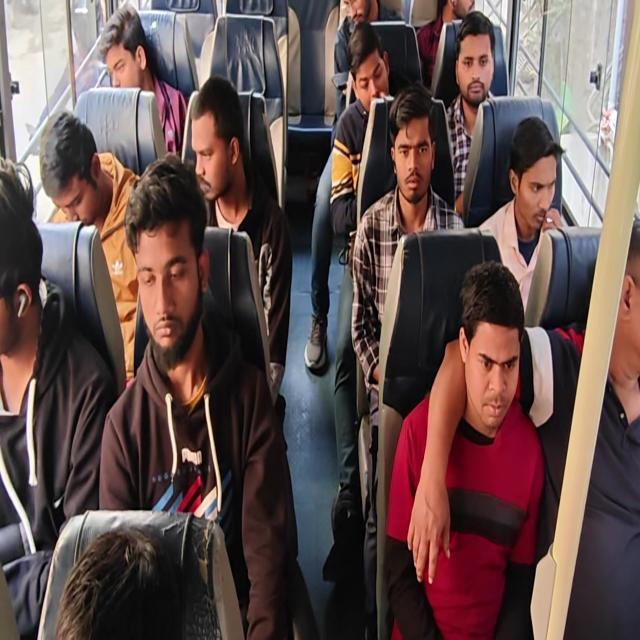person: (54, 515, 219, 640), (127, 151, 205, 368), (450, 260, 526, 431), (0, 148, 44, 358), (40, 87, 106, 226), (186, 76, 248, 205), (599, 207, 640, 398), (391, 62, 438, 214), (506, 110, 555, 239), (451, 19, 500, 119), (337, 19, 396, 102), (100, 8, 152, 100), (337, 0, 387, 19), (450, 0, 487, 15)
